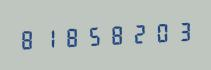eight: (17, 24, 38, 53), (61, 22, 82, 51), (105, 20, 126, 48)
five: (83, 21, 104, 50)
one: (39, 23, 60, 52)
three: (171, 16, 192, 45)
two: (127, 18, 148, 47)
zero: (149, 17, 170, 46)
